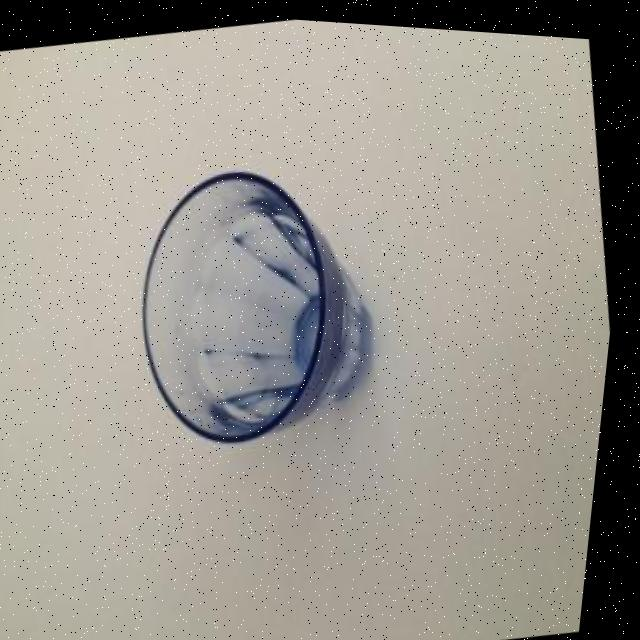glass: (96, 129, 419, 478)
